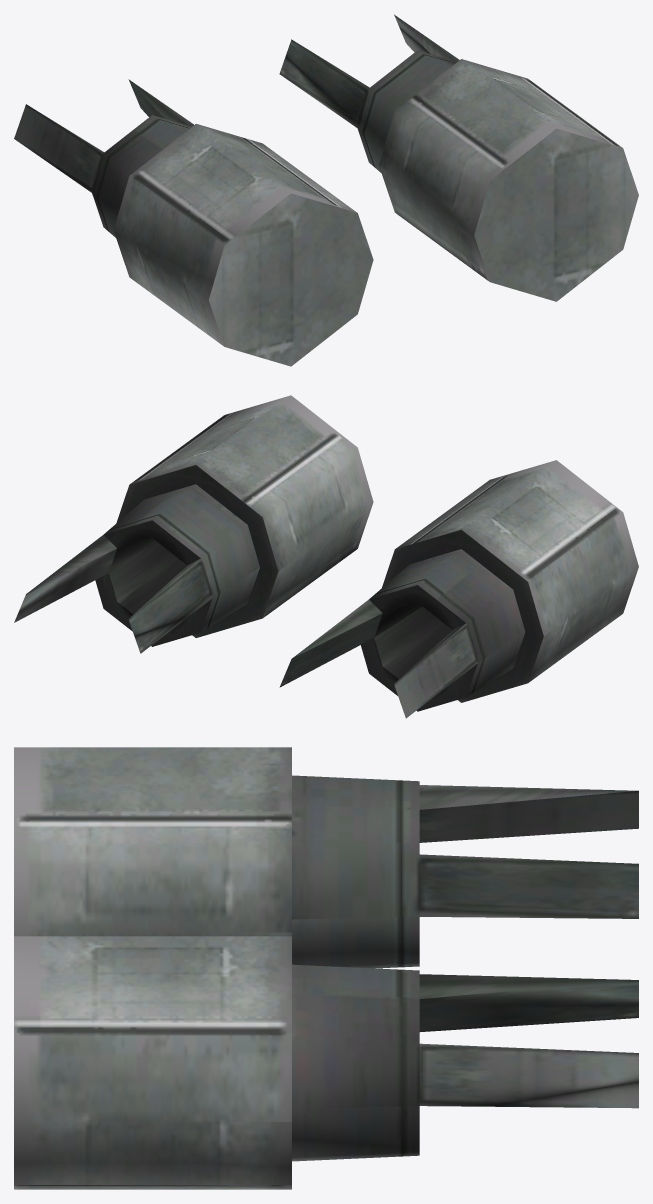
Rendered from black_sun_fighter_medium_booster_s01_l1.fbx.
3 views of the same model, one above another, from view 1: azimuth 30°, elevation 25°; view 2: azimuth 150°, elevation 25°; view 3: azimuth 270°, elevation 25° (orthographic). The views are drawn at different scales.
Parts seen in each view (by area): view 1: mesh_node; view 2: mesh_node; view 3: mesh_node.
Boxes of the visible parts, left/top/right/bottom form: mesh_node: left=14, top=14, right=638, bottom=366; mesh_node: left=14, top=395, right=638, bottom=718; mesh_node: left=14, top=747, right=638, bottom=1189.
Bounding box in the file's own units: 5.22 × 2.01 × 4.5.
Materials: 1 (1 with a texture image).
